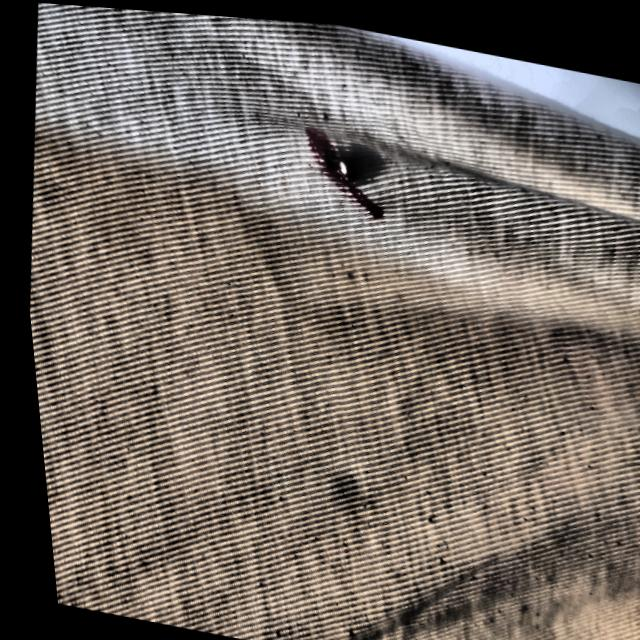Hole: (339, 112, 390, 184), (328, 145, 350, 174)
